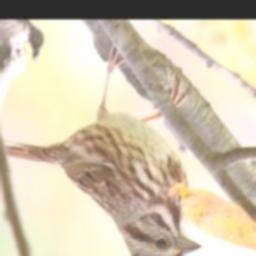Sparrow: (0, 41, 205, 256)
